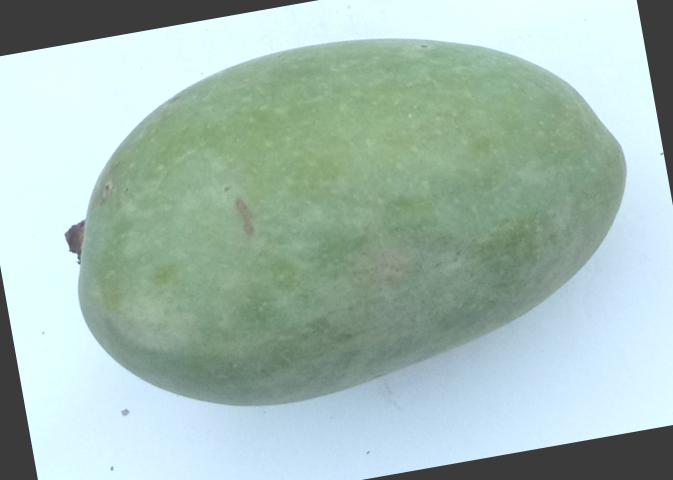Mango Unripe: (1, 0, 673, 469)
